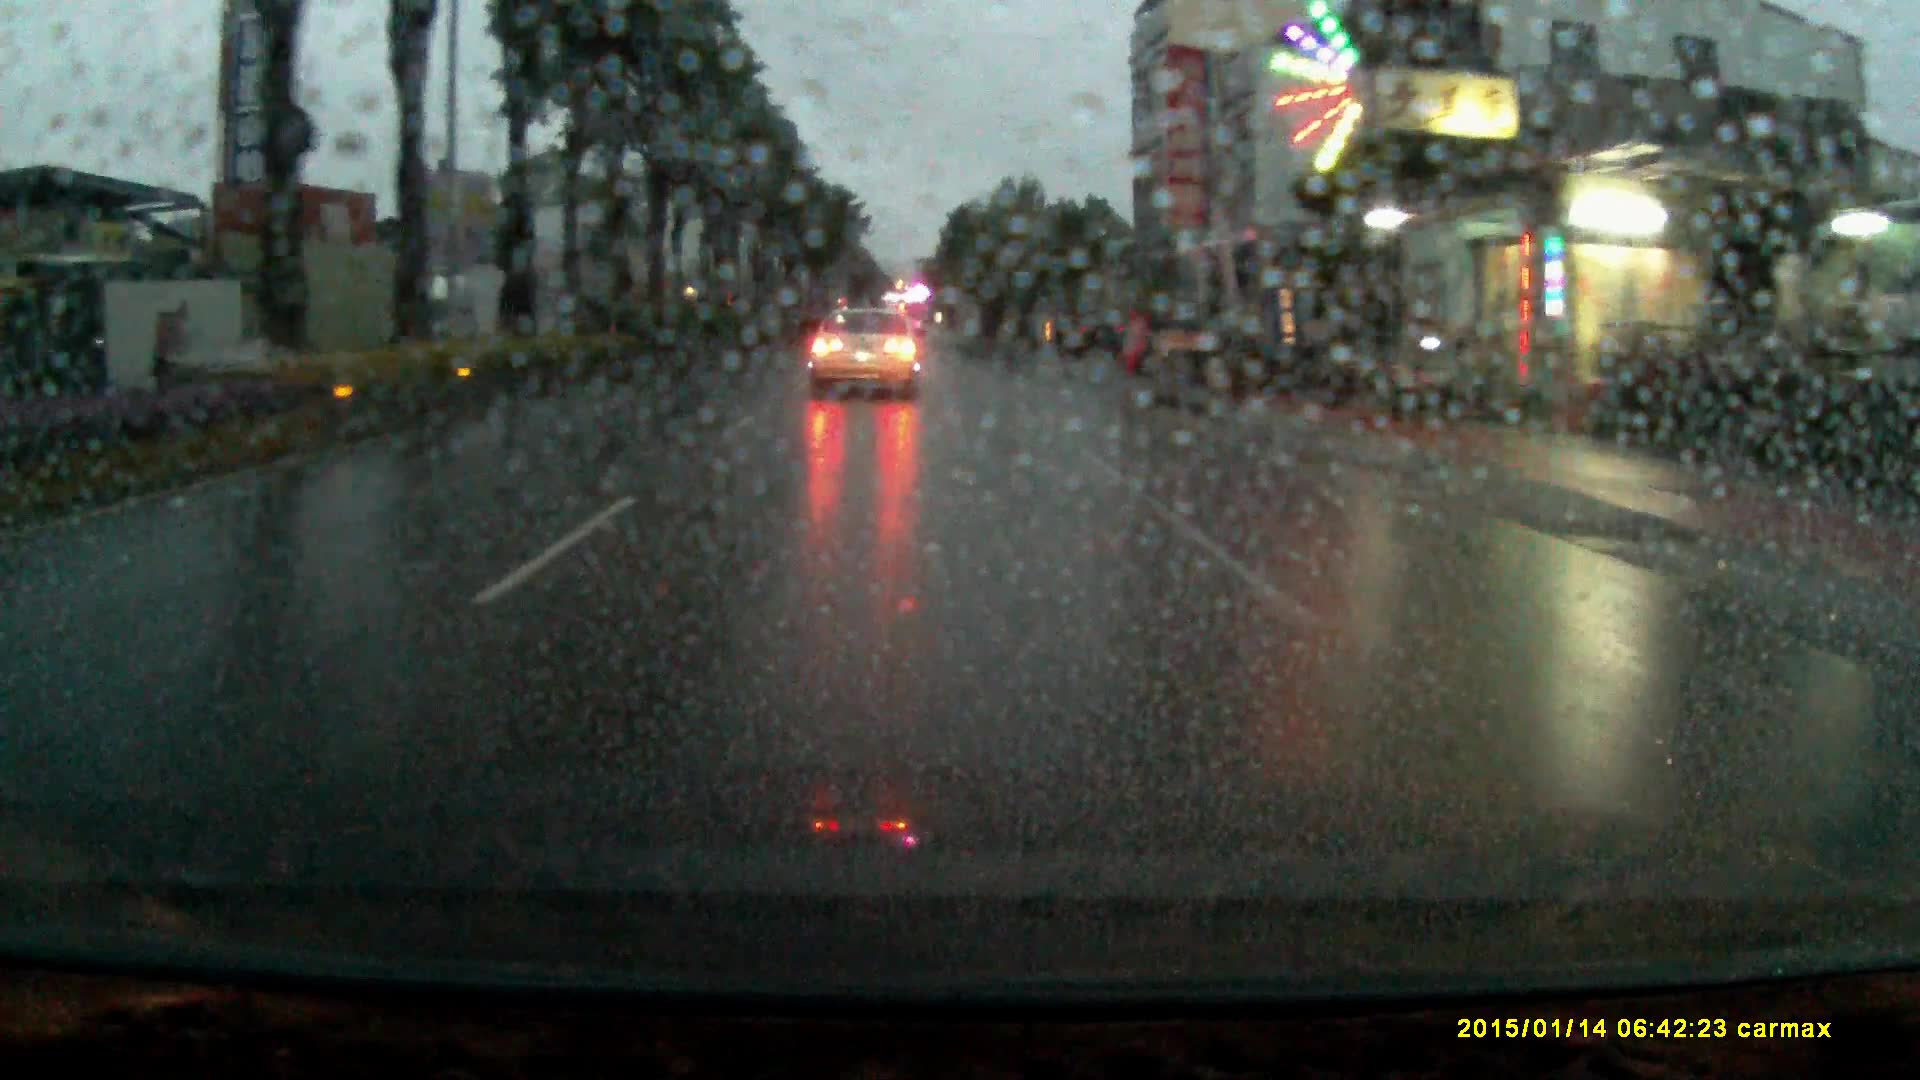vehicle: (810, 301, 919, 400), (415, 257, 529, 336), (1054, 302, 1126, 352)
